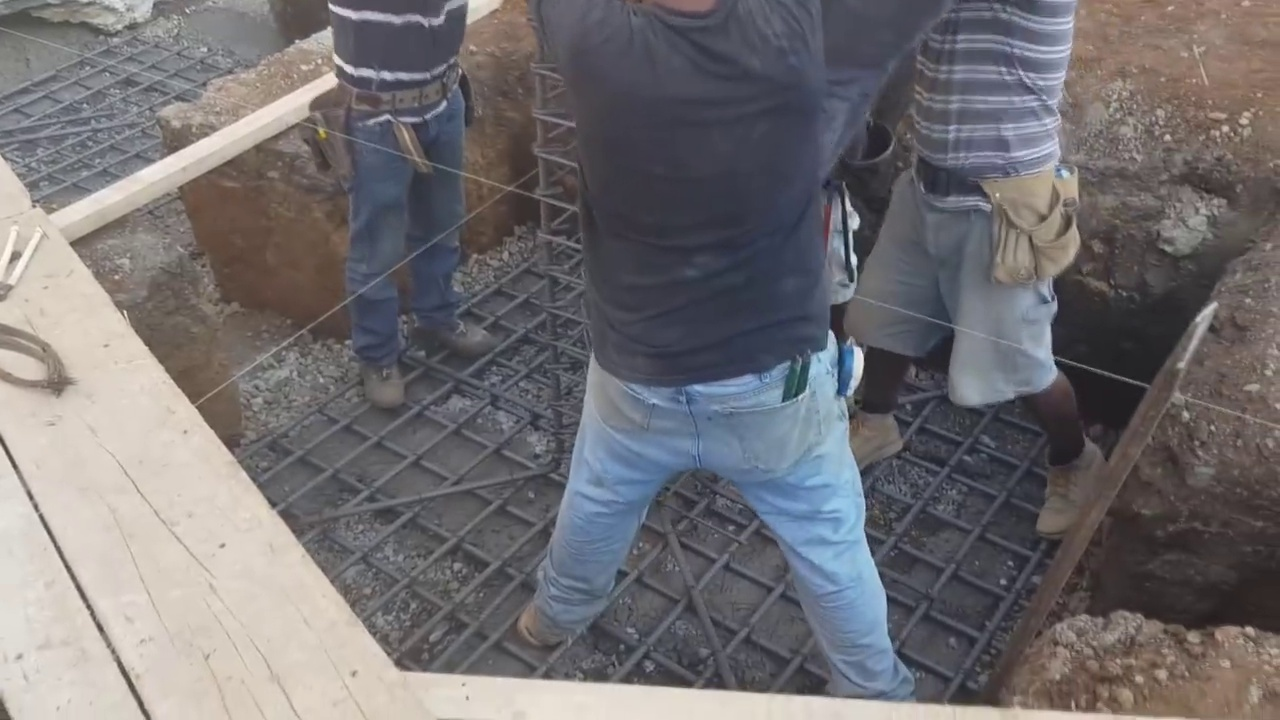person: (525, 3, 916, 701), (854, 5, 1106, 542), (321, 0, 496, 413)
